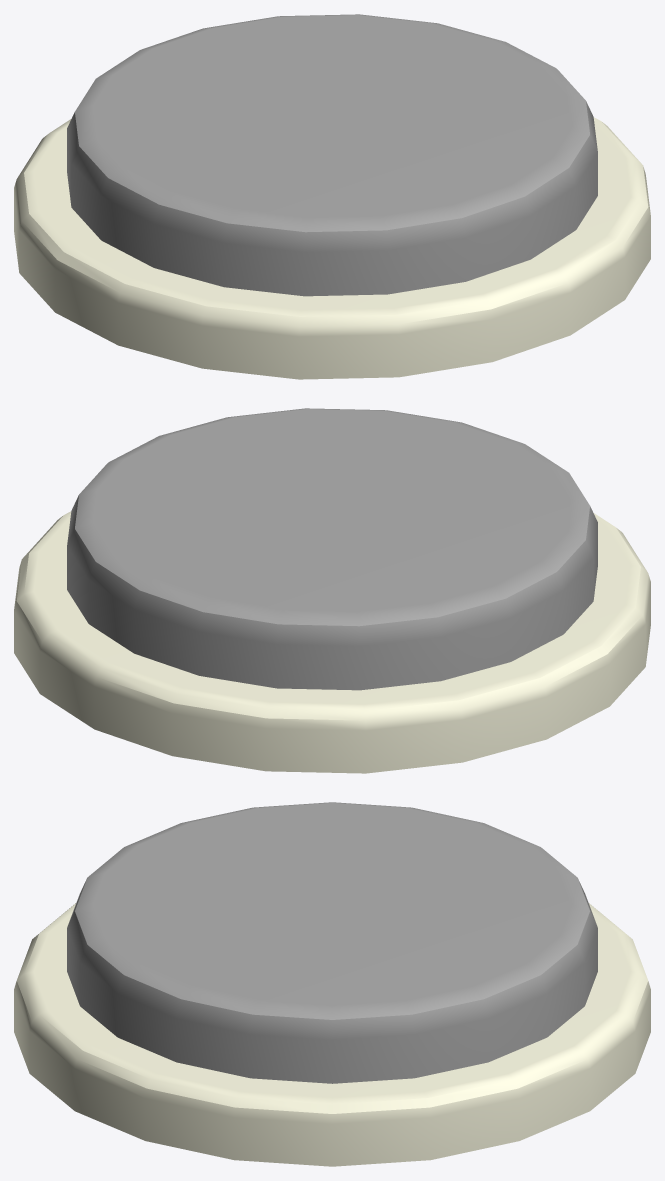
The model's file is door_switch_button.fbx.
3 views of the same model, one above another, from view 1: azimuth 30°, elevation 25°; view 2: azimuth 150°, elevation 25°; view 3: azimuth 270°, elevation 25° (orthographic).
Parts seen in each view (by area): view 1: switch1, switch2; view 2: switch1, switch2; view 3: switch1, switch2.
Boxes of the visible parts, x1,y1,x2,y2 form: switch1: [67, 14, 597, 296]; switch2: [14, 117, 650, 379]; switch1: [67, 408, 597, 690]; switch2: [14, 511, 650, 773]; switch1: [67, 802, 597, 1083]; switch2: [14, 903, 650, 1166].
Size of the model in its own units: 2.4 by 0.5319 by 2.4.
2 materials, 1 textured.
